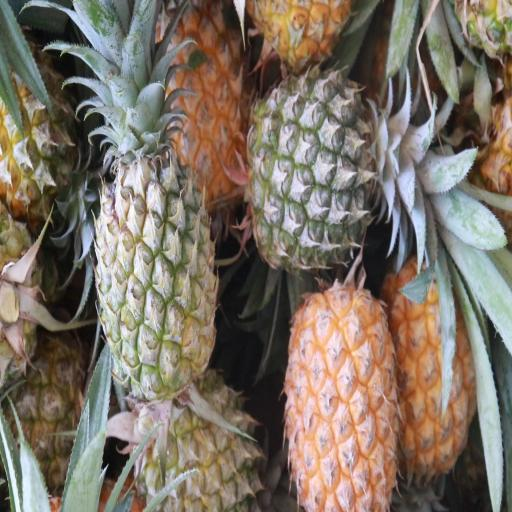Pineapple - v8 v1: (380, 245, 488, 501), (286, 278, 400, 509), (140, 0, 256, 200)
